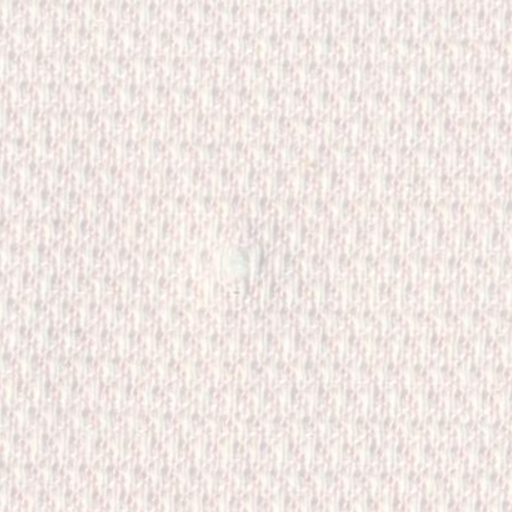MianQiu: (181, 219, 278, 314)
